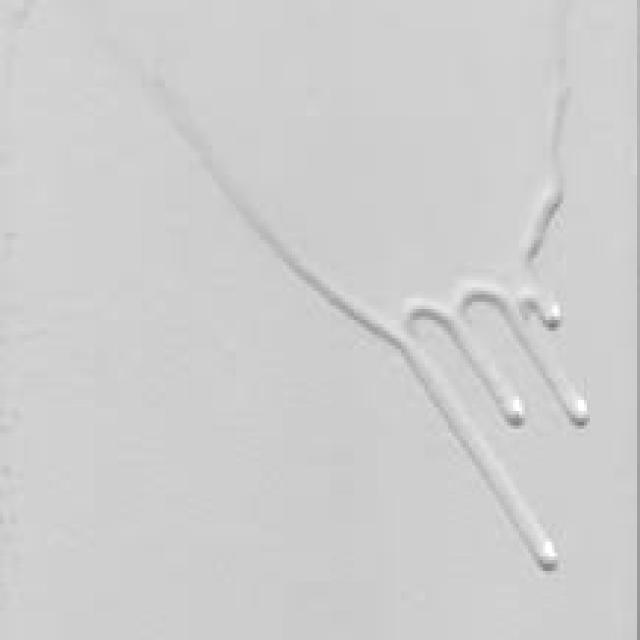paint drips: (146, 8, 600, 599)
